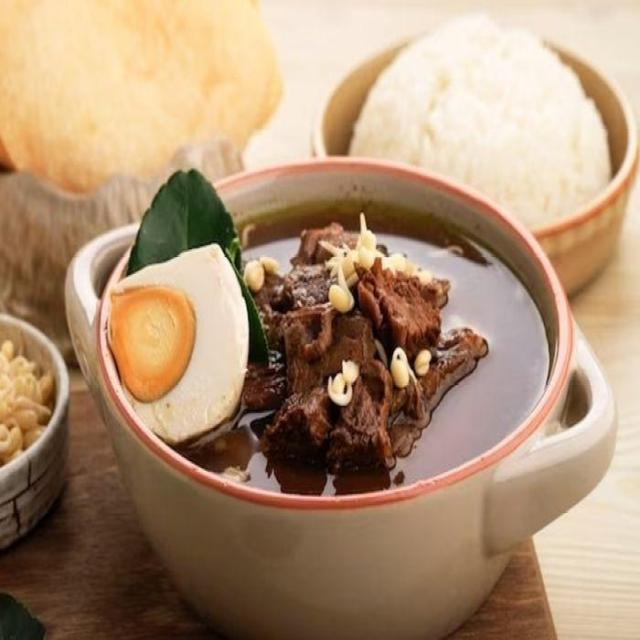Rawon: (149, 181, 546, 489)
